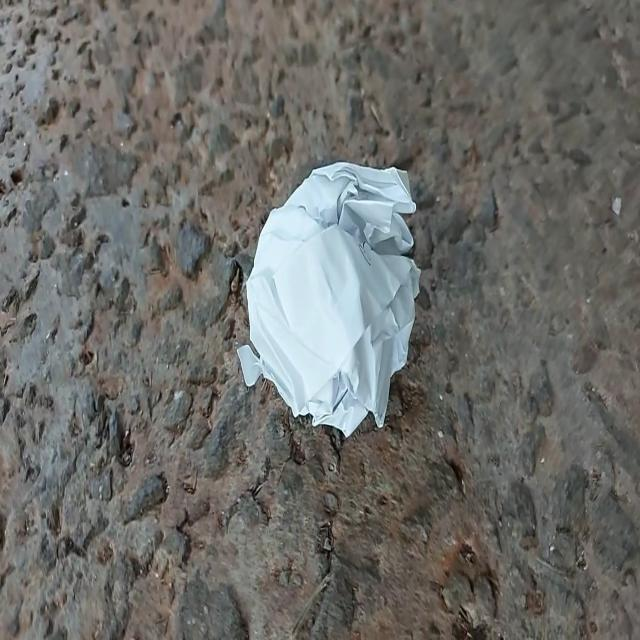Paper: (226, 143, 432, 448)
